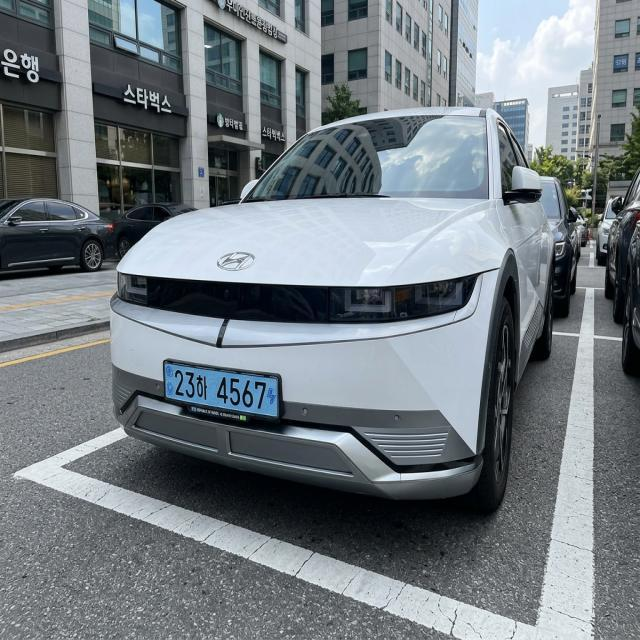car: (157, 349, 290, 430)
carev: (163, 360, 175, 406), (266, 381, 278, 412)
